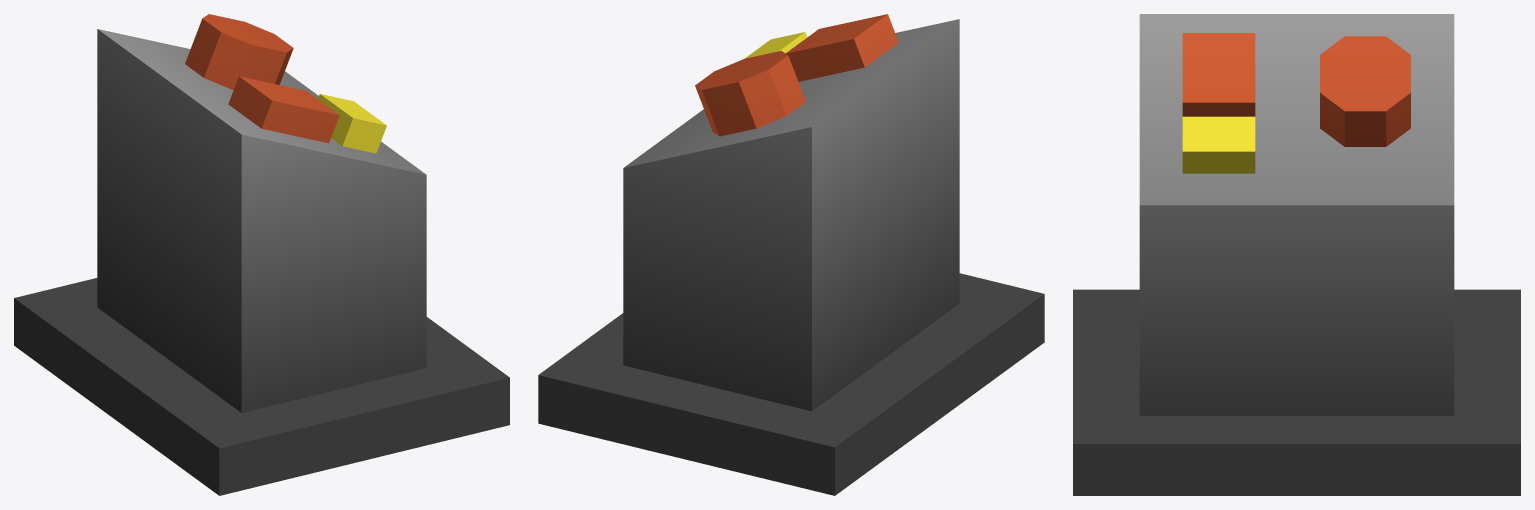
File: remote control.fbx
The picture shows the model from 3 angles, left to right: view 1: azimuth 30°, elevation 25°; view 2: azimuth 150°, elevation 25°; view 3: azimuth 270°, elevation 25°; orthographic projection. The views are drawn at different scales.
Visible parts, largest first — view 1: remote_control; view 2: remote_control; view 3: remote_control.
Part boxes in pixels (box(x1,y1,x2,y2)): remote_control: box(14, 14, 509, 495); remote_control: box(538, 14, 1044, 495); remote_control: box(1073, 14, 1520, 495).
Size of the model in its own units: 113 by 127 by 139.
1 material, 1 textured.
